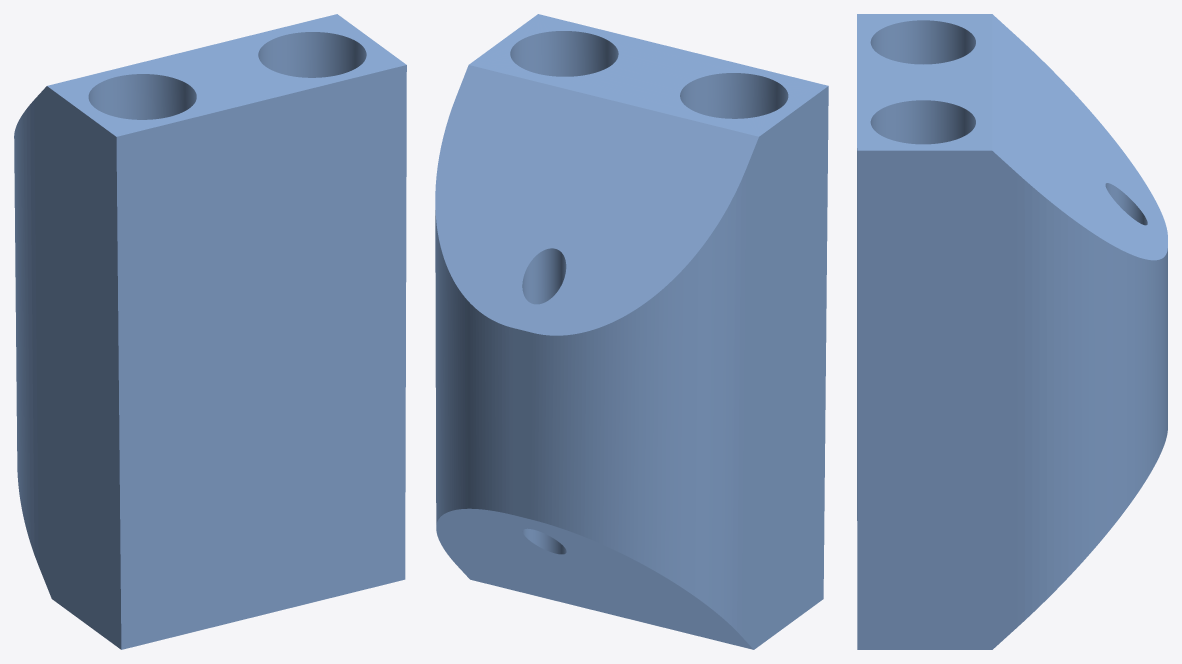
The model's file is dedo_menique_1.dae.
3 renders of one model, left to right at view 1: azimuth 30°, elevation 25°; view 2: azimuth 150°, elevation 25°; view 3: azimuth 270°, elevation 25°, orthographic. The views are drawn at different scales.
Visible parts, largest first — view 1: Fingerdesign-All-2.002; view 2: Fingerdesign-All-2.002; view 3: Fingerdesign-All-2.002.
Part boxes in pixels (x1,y1,x2,y2): Fingerdesign-All-2.002: (14, 14, 406, 649); Fingerdesign-All-2.002: (435, 14, 828, 649); Fingerdesign-All-2.002: (857, 14, 1167, 649).
Size of the model in its own units: 0.013 by 0.0124 by 0.022.
